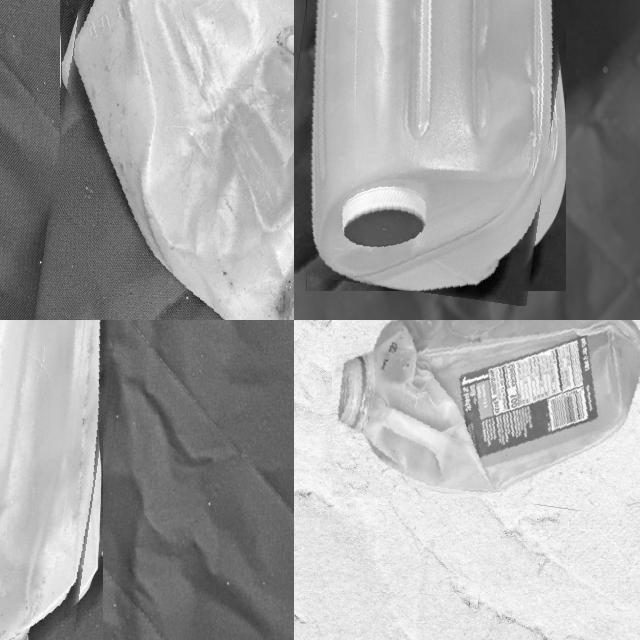milk-jug: (294, 0, 584, 298), (43, 0, 294, 320), (325, 320, 640, 507), (0, 320, 121, 640)
